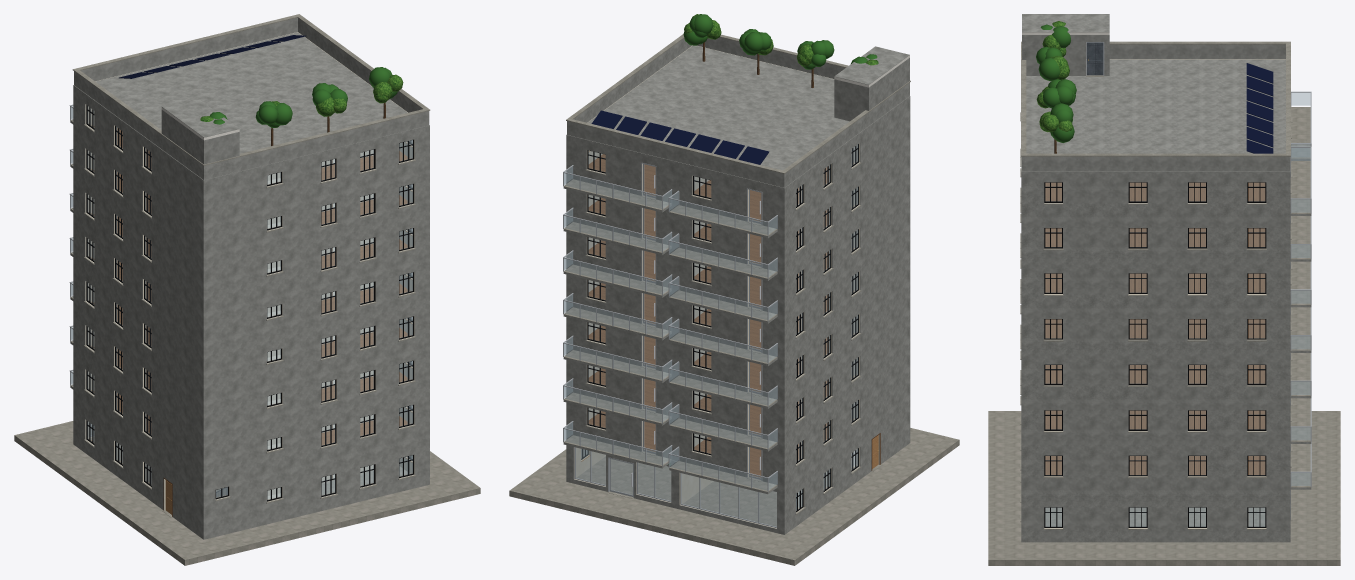
File: b_arcology_block.gltf
3 views of the same model, side by side, from view 1: azimuth 30°, elevation 25°; view 2: azimuth 150°, elevation 25°; view 3: azimuth 270°, elevation 25° (orthographic). The views are drawn at different scales.
Visible parts, largest first — view 1: S_arcology_block; view 2: S_arcology_block, D_arcology_block_F1_S3_Door0; view 3: S_arcology_block, D_arcology_block_PH_W0_Door0.
Part boxes in pixels (left/top/right/bottom): S_arcology_block: left=14, top=14, right=480, bottom=565; S_arcology_block: left=509, top=14, right=959, bottom=565; D_arcology_block_F1_S3_Door0: left=609, top=458, right=633, bottom=496; S_arcology_block: left=988, top=14, right=1340, bottom=565; D_arcology_block_PH_W0_Door0: left=1087, top=42, right=1103, bottom=75.
Bounding box in the file's own units: 21 × 28.24 × 21.
23 materials, 12 textured.
